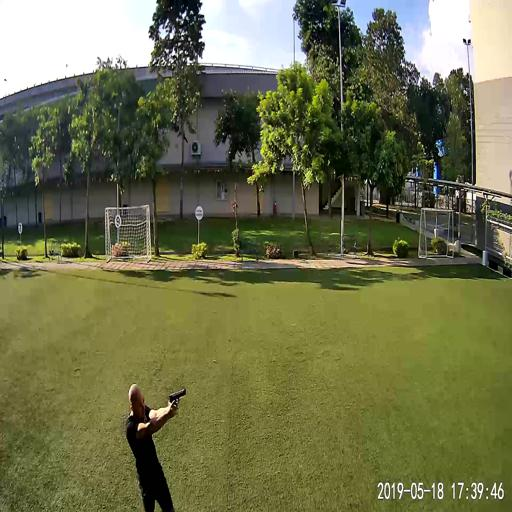pistol: (167, 386, 186, 403)
